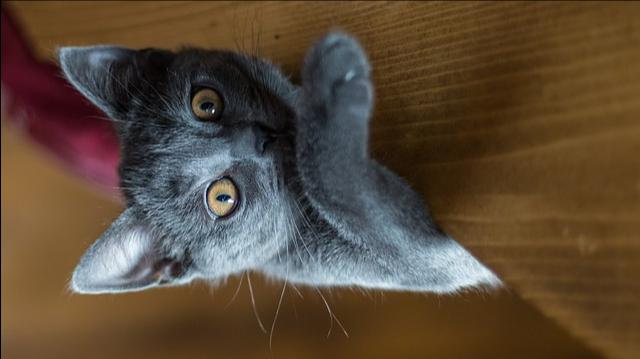cat: (54, 22, 506, 350)
